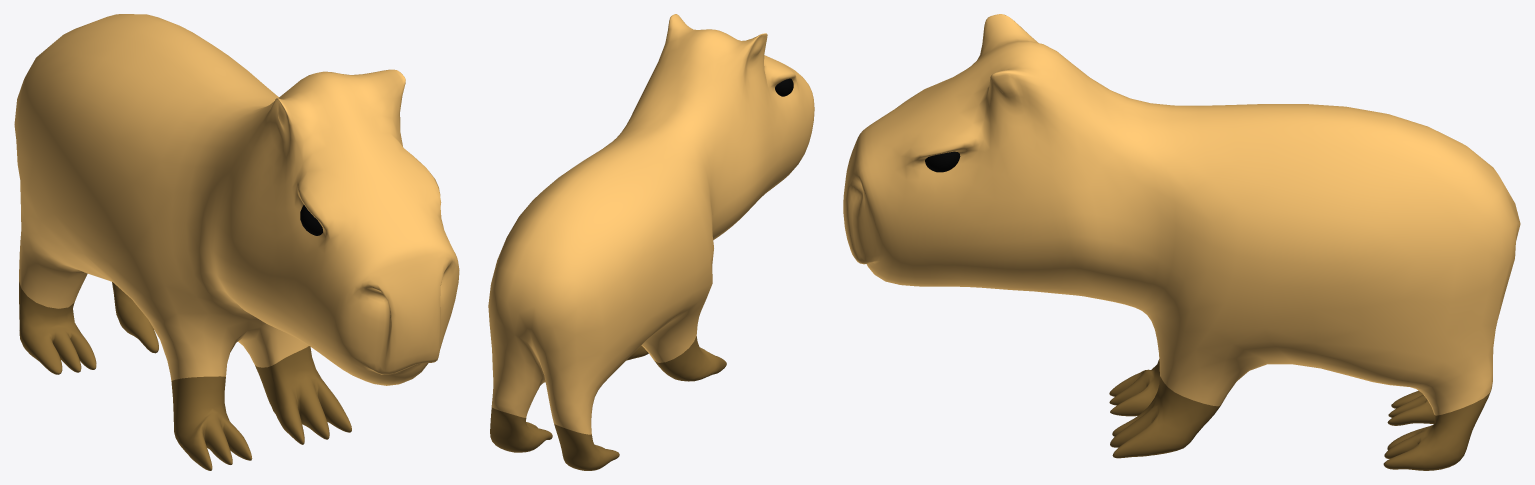
File: capyLARGE.fbx
The picture shows the model from 3 angles, left to right: view 1: azimuth 30°, elevation 25°; view 2: azimuth 150°, elevation 25°; view 3: azimuth 270°, elevation 25°; orthographic projection. The views are drawn at different scales.
Visible parts, largest first — view 1: body; view 2: body; view 3: body.
Part boxes in pixels (bbox=[...]): body: bbox=[14, 14, 459, 470]; body: bbox=[488, 14, 814, 470]; body: bbox=[843, 14, 1520, 470].
Size of the model in its own units: 223 by 452 by 691.
